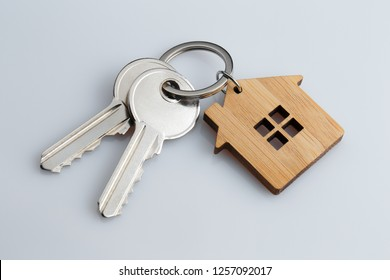key: (41, 57, 201, 219)
